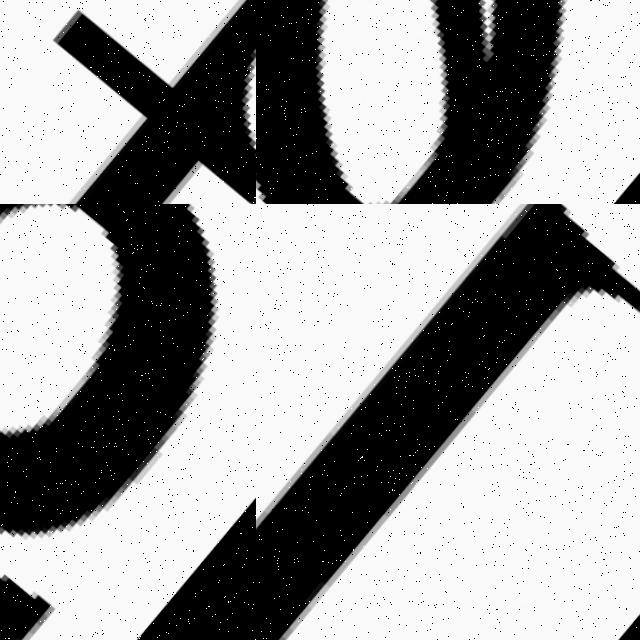6: (256, 0, 640, 204)
G: (0, 204, 256, 640)
L: (256, 204, 640, 640)
T: (0, 0, 256, 204)
